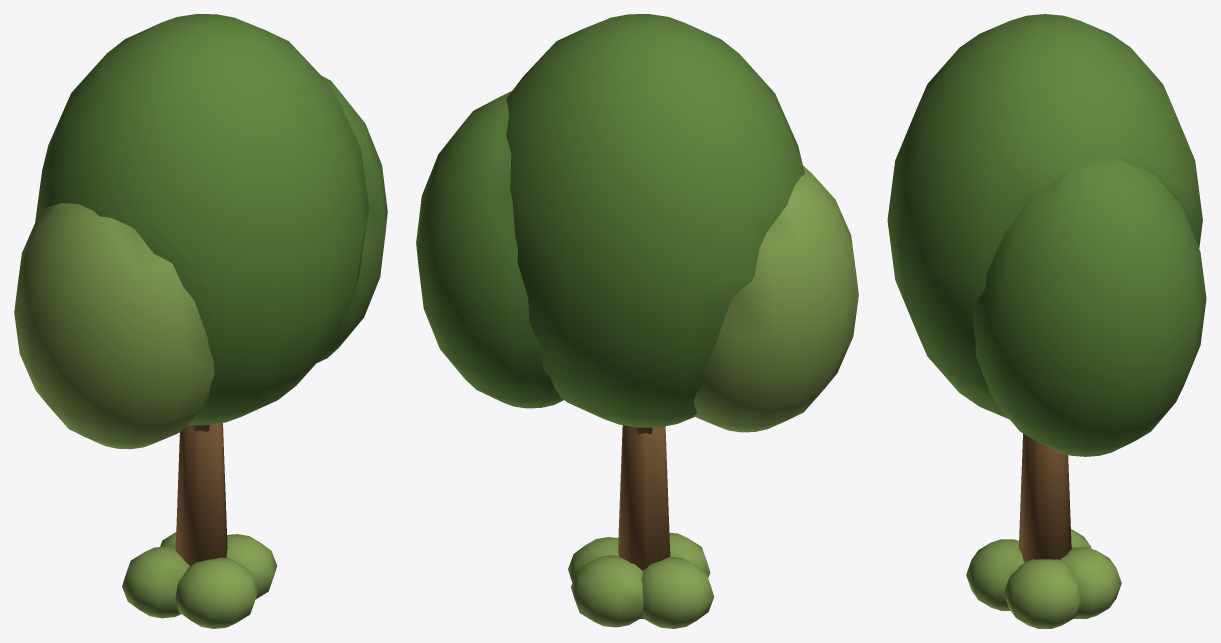
Rendered from tree_0.glb.
3 renders of one model, left to right at view 1: azimuth 30°, elevation 25°; view 2: azimuth 150°, elevation 25°; view 3: azimuth 270°, elevation 25°, orthographic.
Visible parts, largest first — view 1: tree_0; view 2: tree_0; view 3: tree_0.
Boxes of the visible parts, x1,y1,x2,y2 form: tree_0: [14, 14, 387, 628]; tree_0: [416, 14, 858, 628]; tree_0: [887, 14, 1206, 628].
Bounding box in the file's own units: 1.82 × 2.7 × 1.35.
